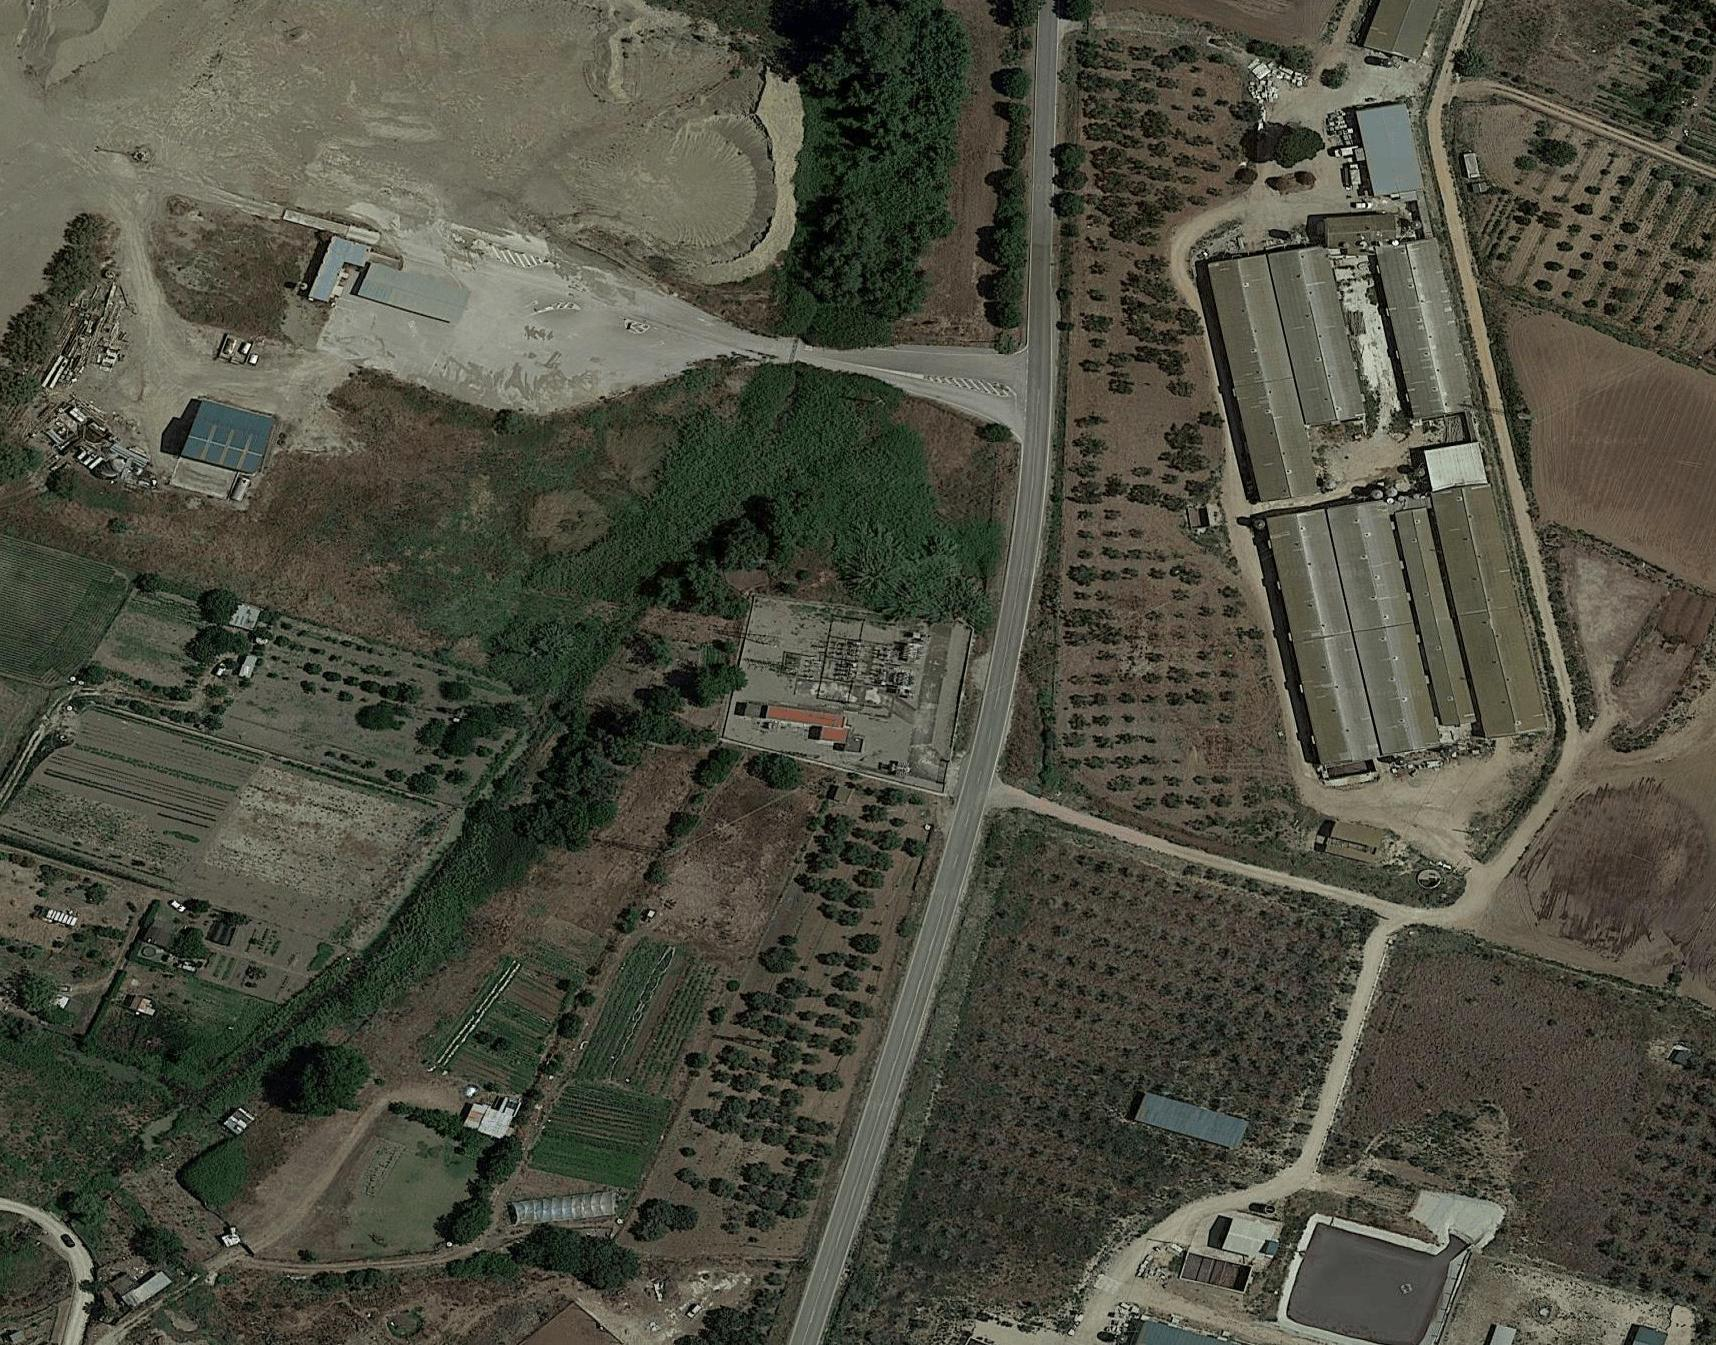substation: (766, 608, 928, 716)
